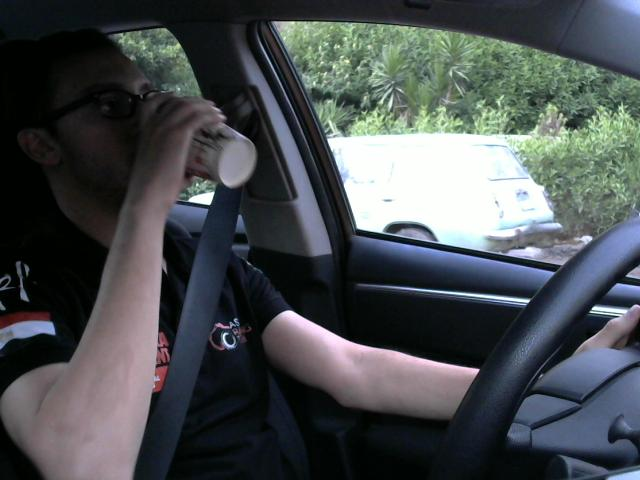Drinking: (139, 92, 264, 195)
